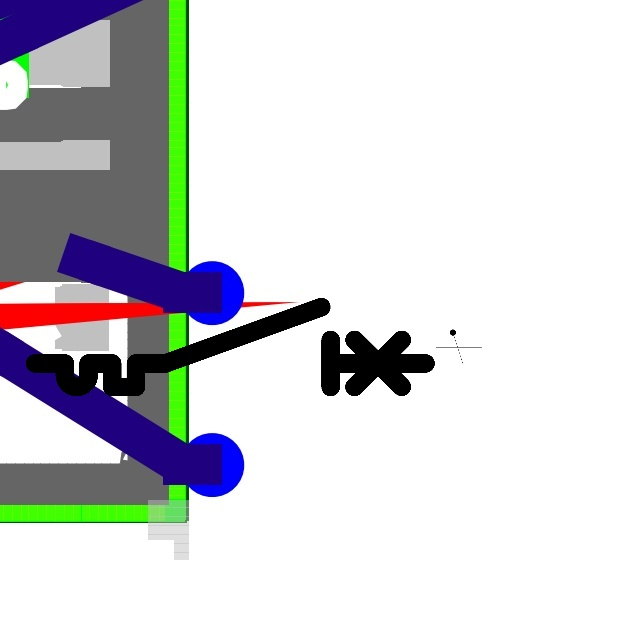interruptor_termomagnetico: (25, 297, 435, 397)
